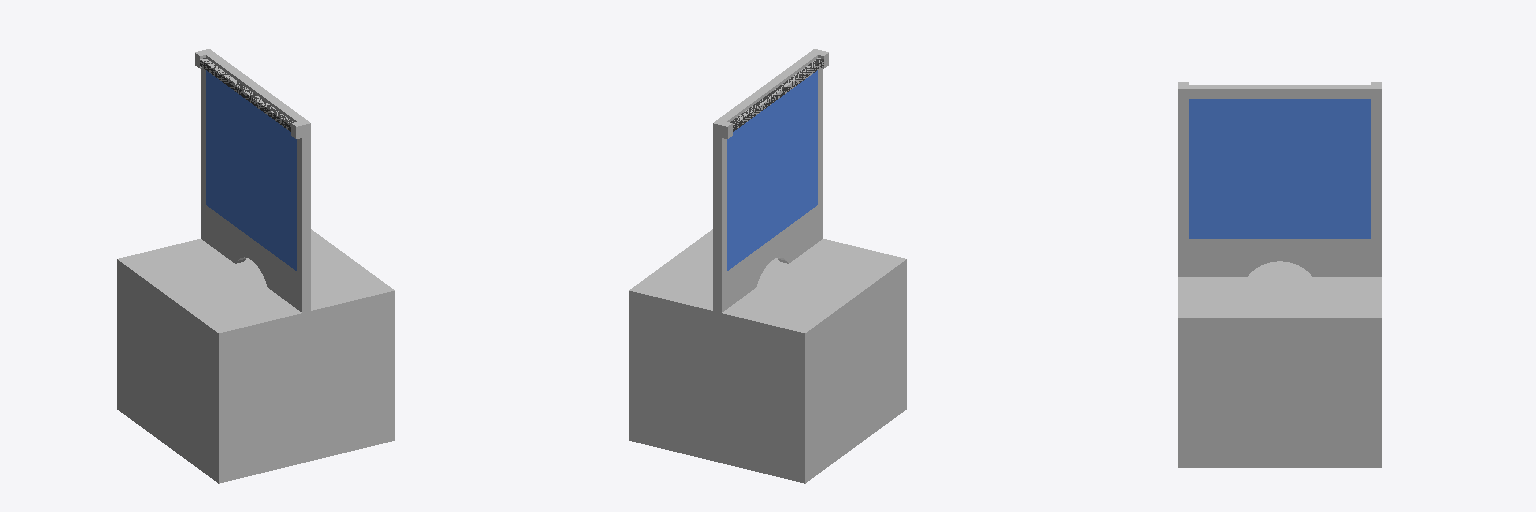
Rendered from bank_booth.obj.
3 renders of one model, left to right at view 1: azimuth 30°, elevation 25°; view 2: azimuth 150°, elevation 25°; view 3: azimuth 270°, elevation 25°, orthographic.
Bounding box in the file's own units: 1499 × 2743 × 1499.